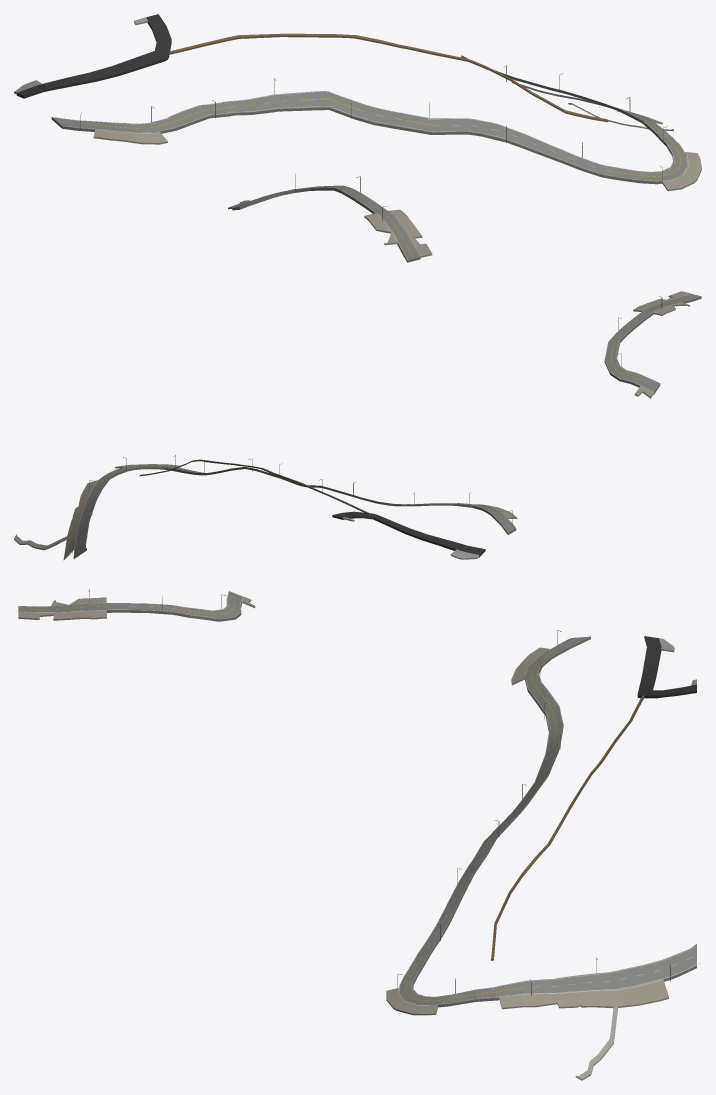
The picture shows the model from 3 angles, top to bottom: view 1: azimuth 30°, elevation 25°; view 2: azimuth 150°, elevation 25°; view 3: azimuth 270°, elevation 25°; orthographic projection. The views are drawn at different scales.
Size of the model in its own units: 295 by 112 by 295.
